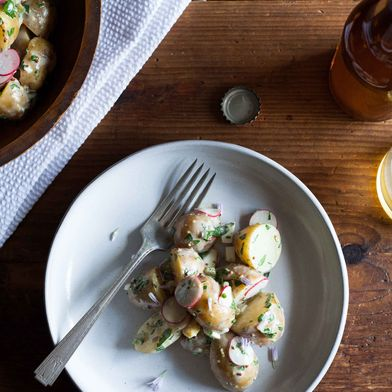boiled potatoes: (141, 209, 290, 392), (1, 1, 46, 116)
